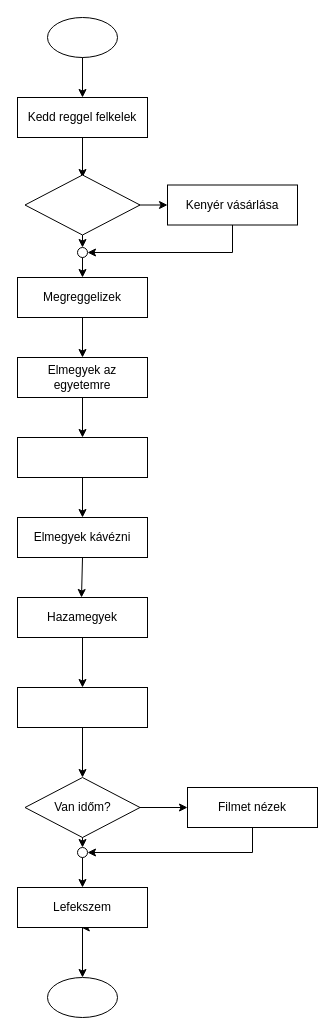
Some shapes in this 335 by 1035 pixel diagram are drawn without their labels. The centre of each missing label's shape, as x and y in pixels:
"Hazamegyek tanulni" goes at point (82, 457).
"Megvacsorázom" goes at point (82, 707).
"Start" goes at point (82, 37).
"Stop" goes at point (82, 997).
"Van-e kenyér?" goes at point (82, 204).
